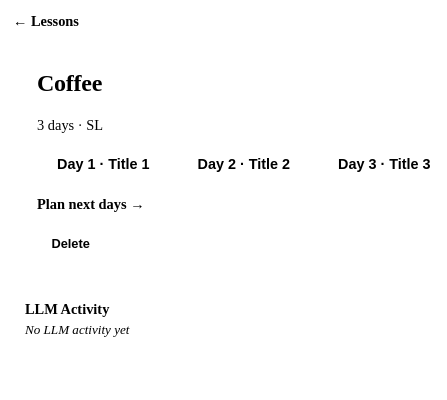
Test: Delete curriculum › shows a stringified error when the delete rejects with a non-Error
The width and height of the screenshot is (447, 400).
Click the button with aria-label "Delete Coffee": {"x": 71, "y": 243} [37, 229, 104, 257]
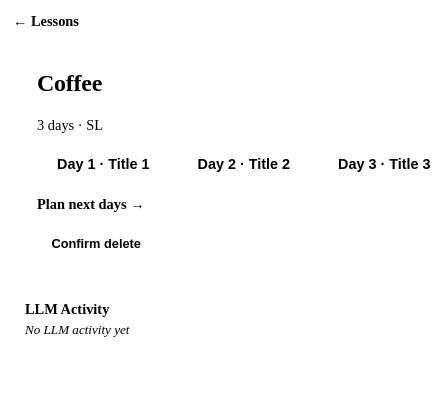
Click the button with aria-label "Confirm delete Coffee": {"x": 96, "y": 243} [37, 229, 155, 257]
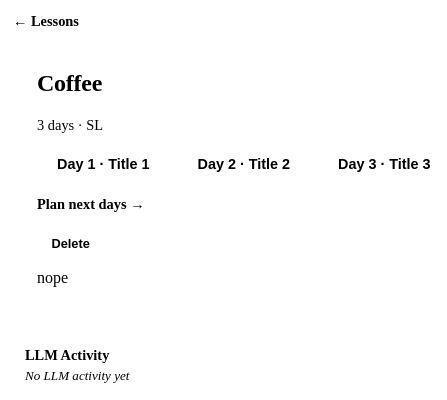
Result: the text "nope" is shown at [37, 269, 68, 286]
